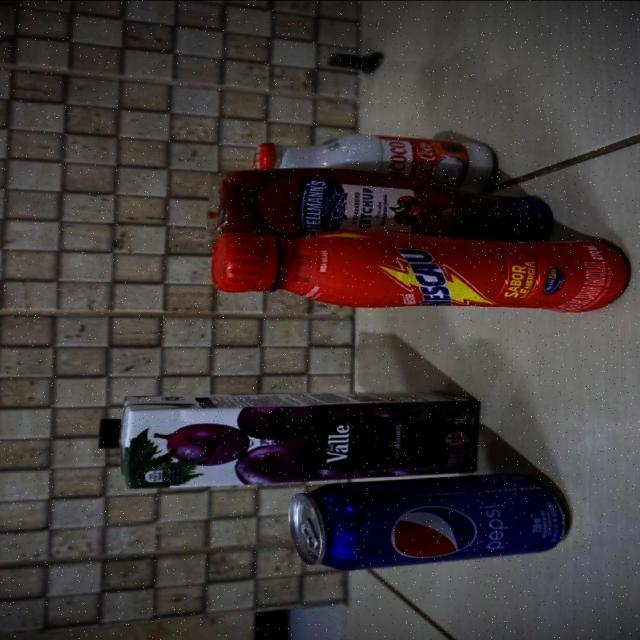ChocolateMilk: (208, 228, 631, 313)
CoconutMilk: (256, 132, 498, 188)
Ketchup: (214, 168, 554, 240)
SodaCan: (288, 471, 570, 570)
